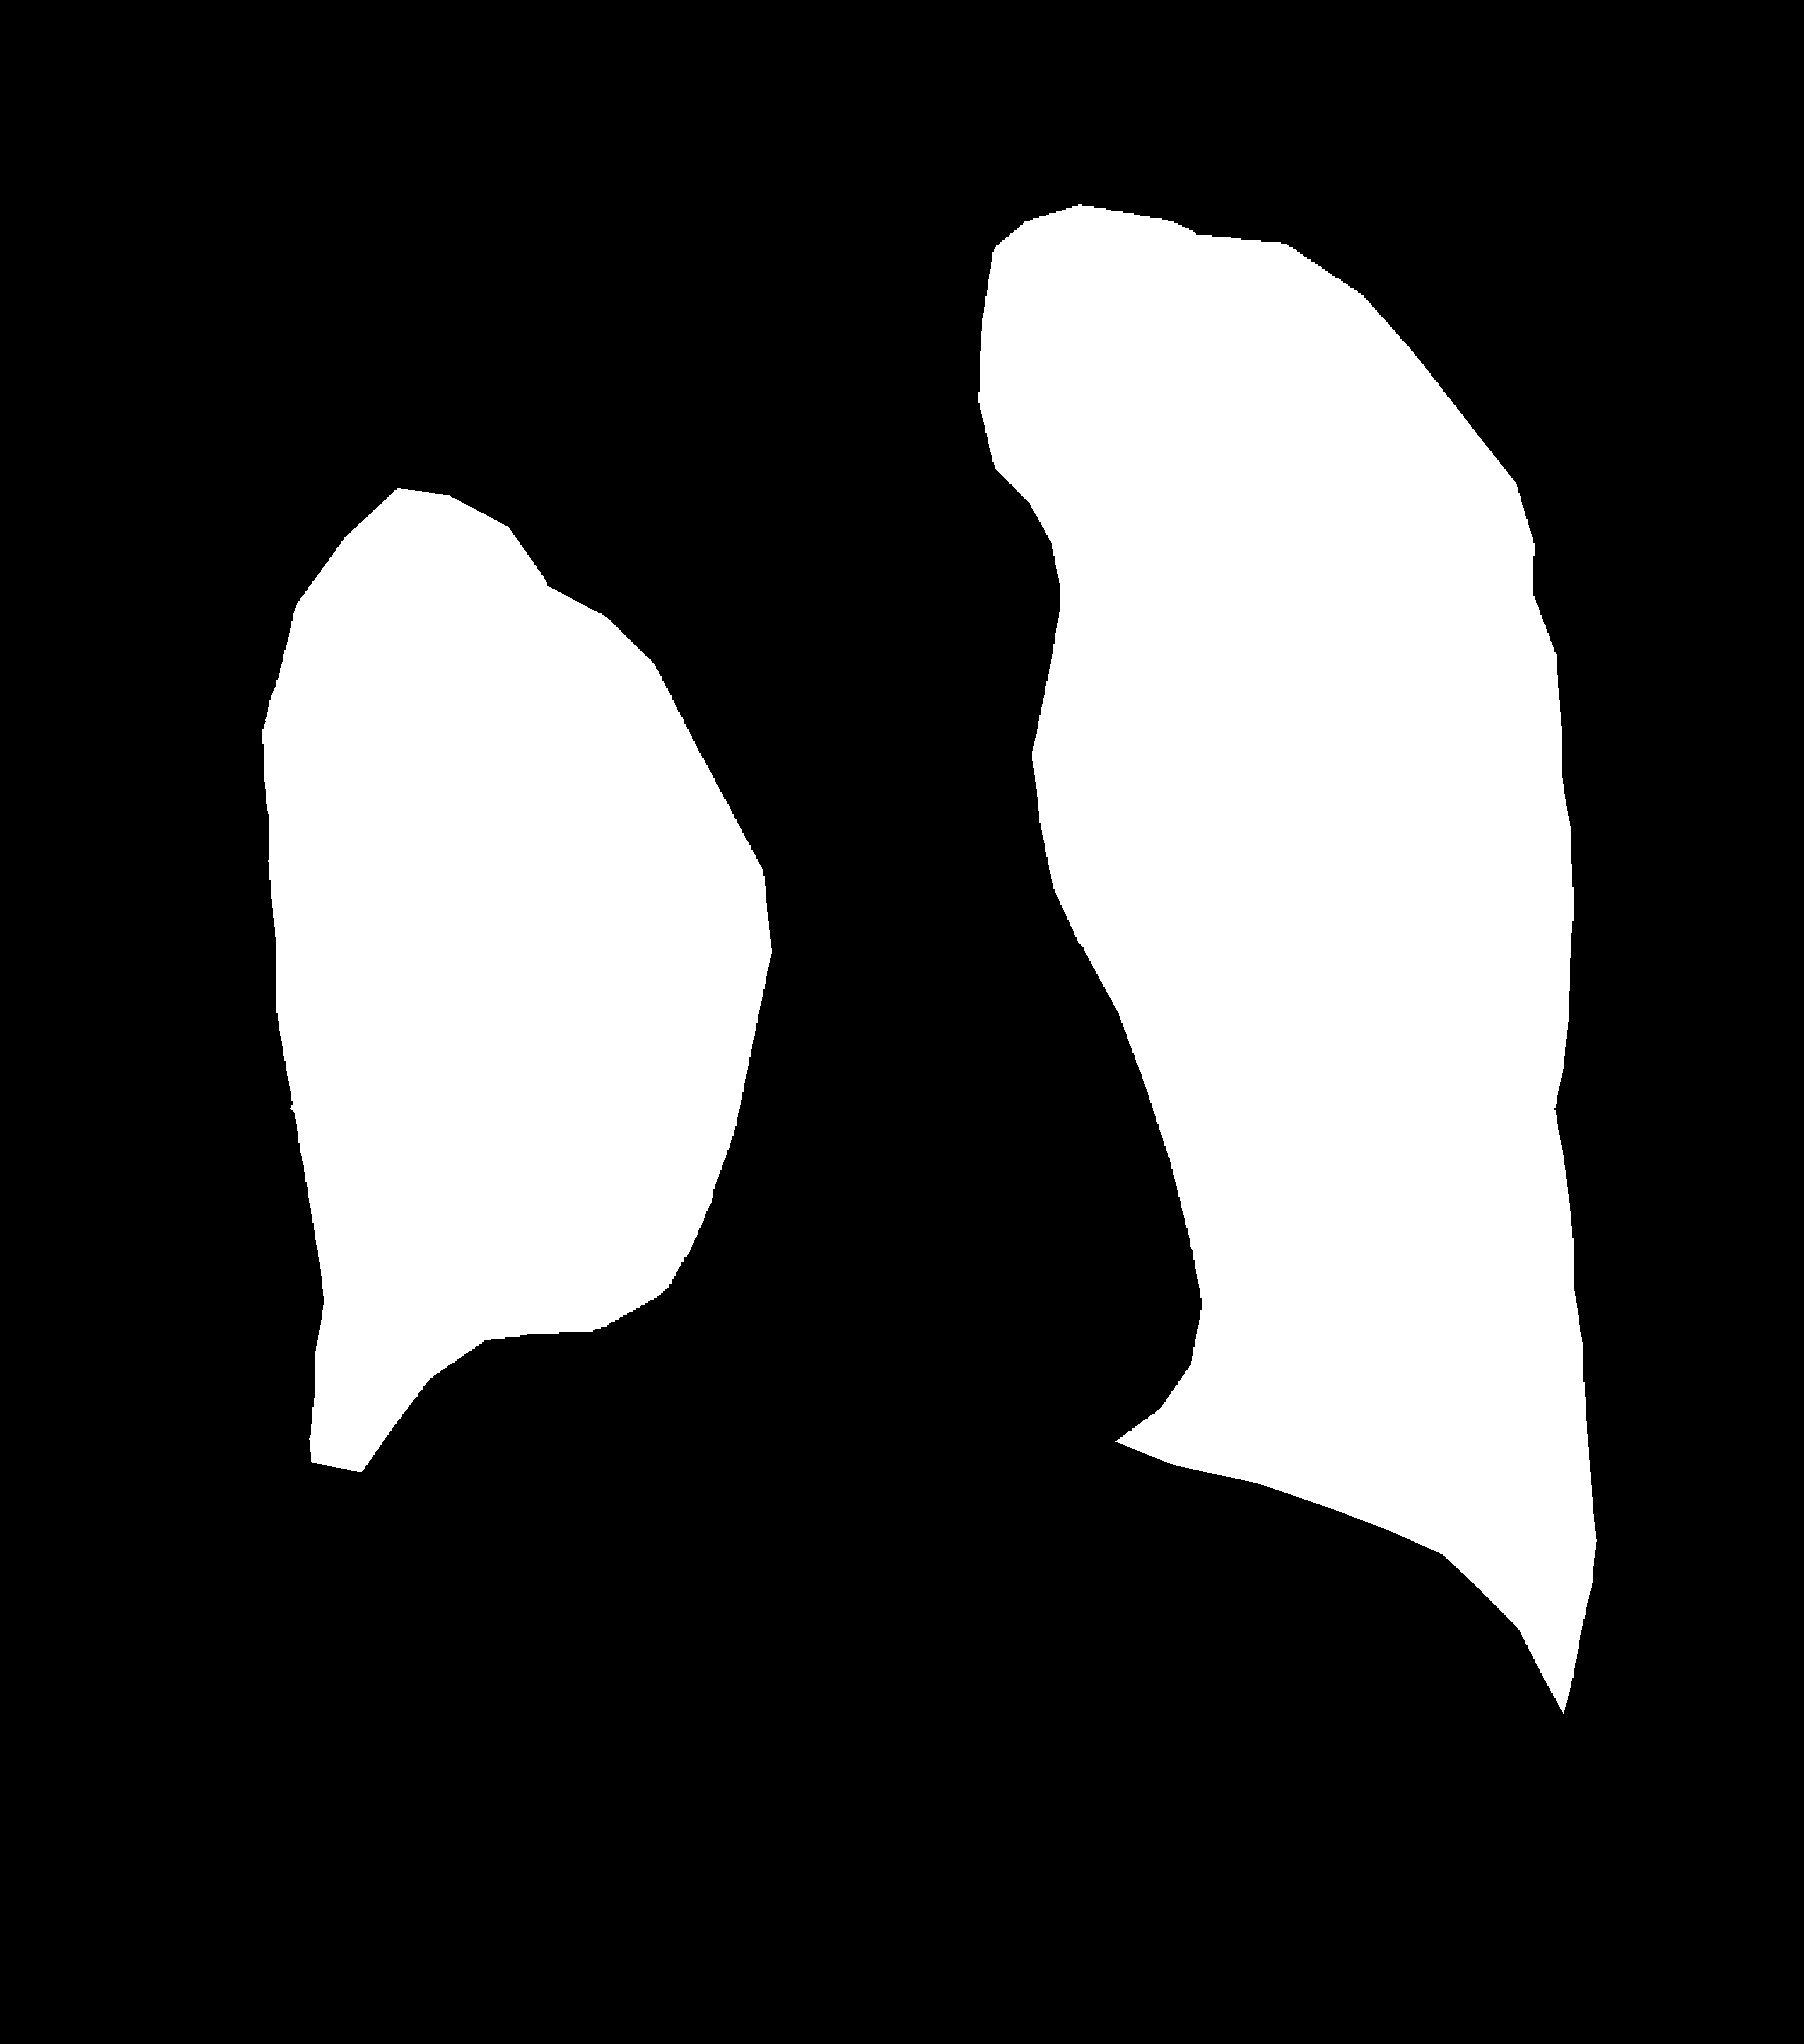heart: (717, 972, 1207, 1454)
left_lung: (263, 489, 771, 1471)
right_lung: (979, 204, 1597, 1713)
